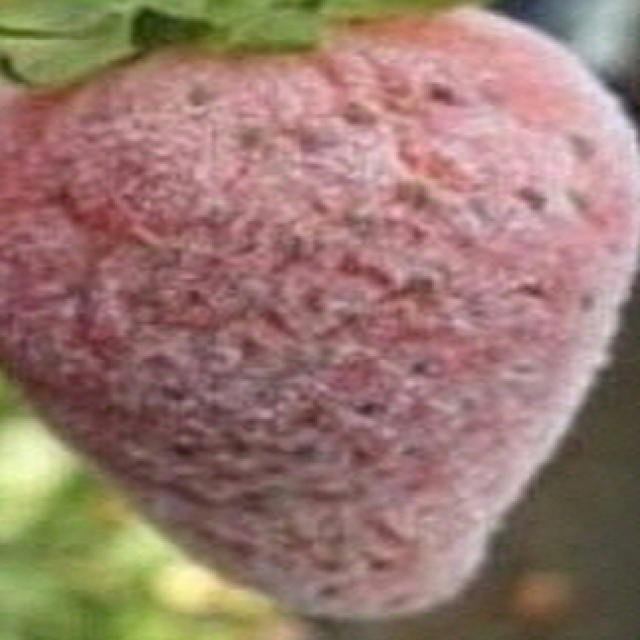Powdery Mildew Fruit: (0, 0, 640, 623)
